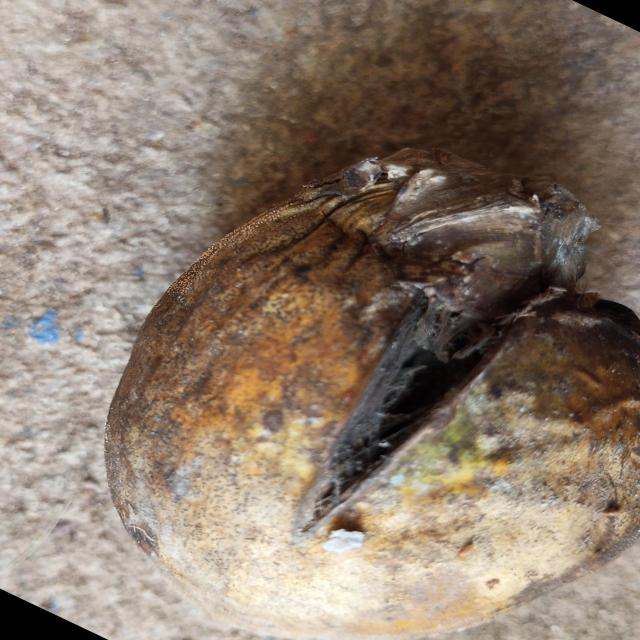damaged: (106, 148, 640, 637)
